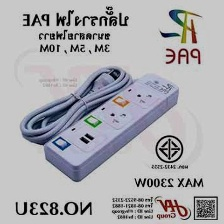three_eye_plug: (40, 67, 183, 183)
